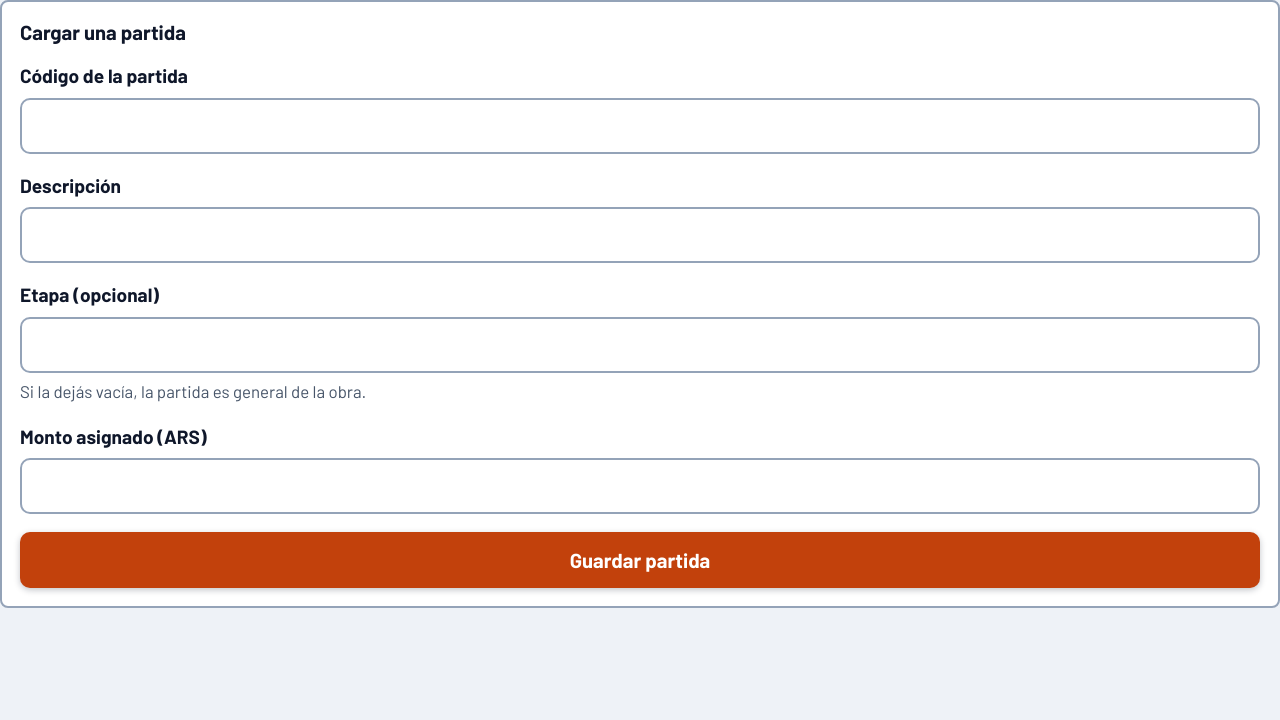
Test: FormularioNuevaPartida › muestra el detalle del backend cuando la partida ya existe (409)
In the field labelled "Código de la partida": (640, 126) left=20, top=98, right=1260, bottom=154, type "EST-001"
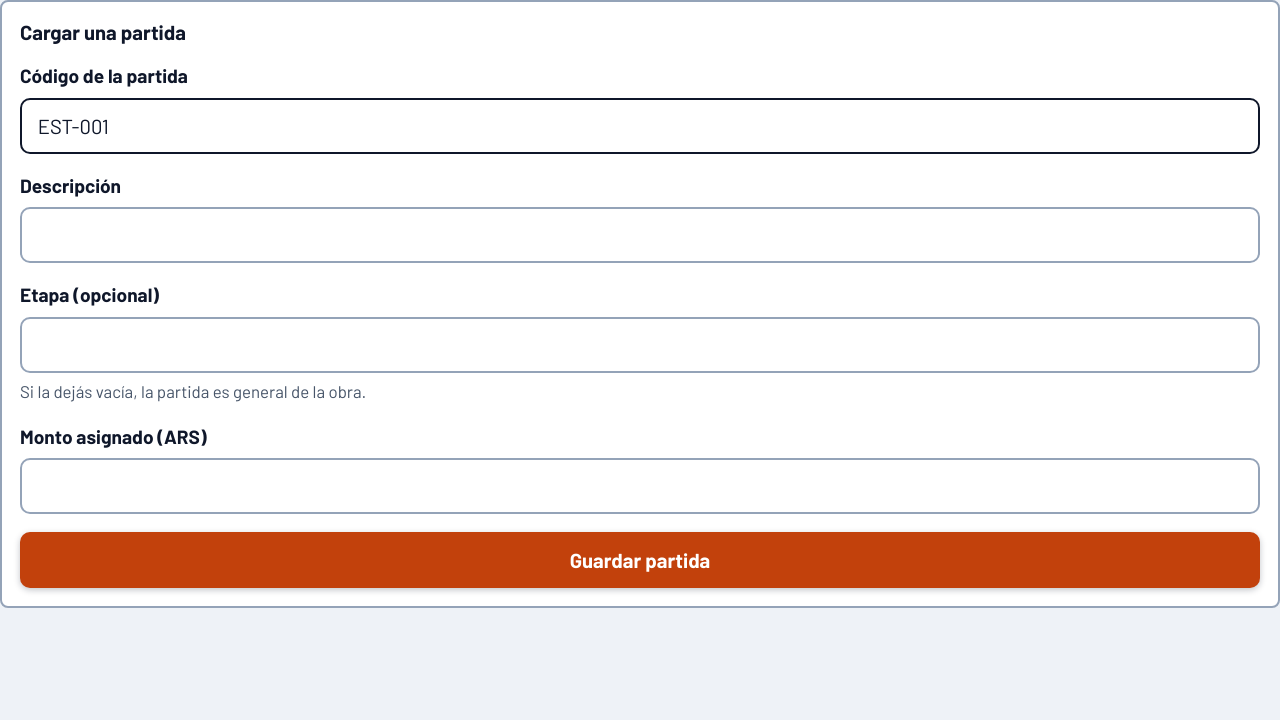
In the field labelled "Descripción": (640, 235) left=20, top=207, right=1260, bottom=263, type "Repetida"
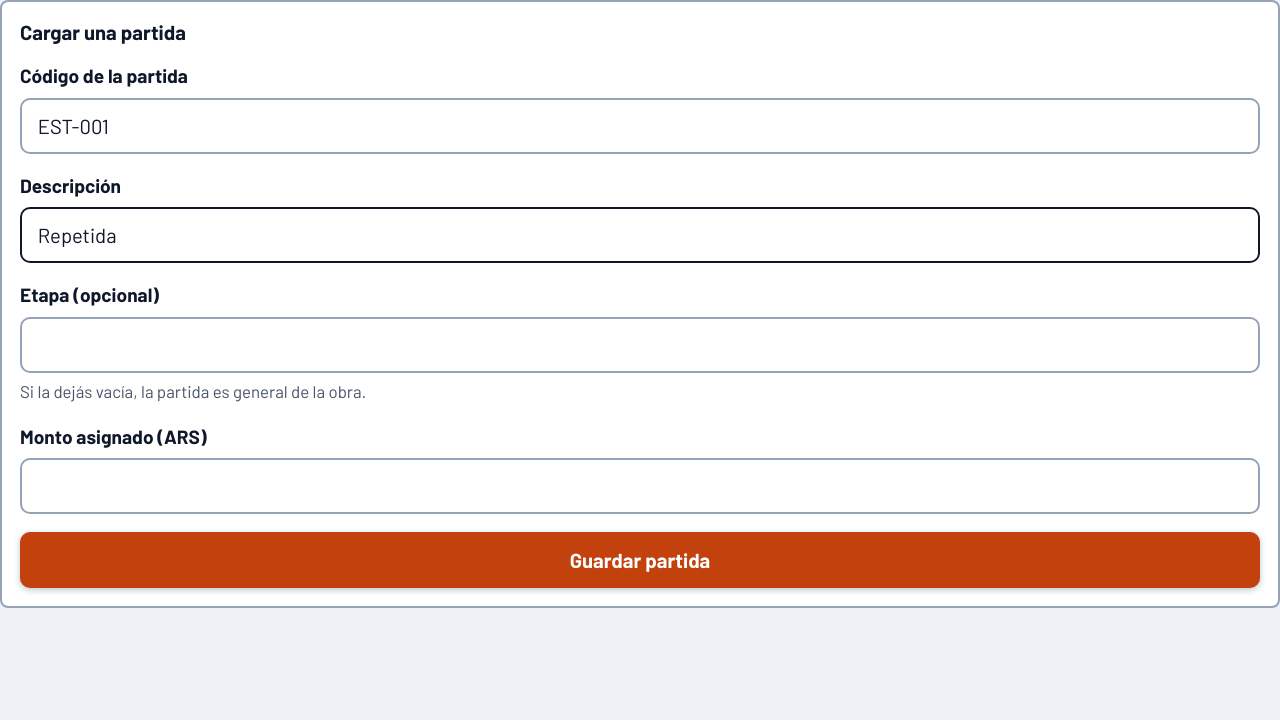
In the field labelled "Monto asignado (ARS)": (640, 486) left=20, top=458, right=1260, bottom=514, type "100"
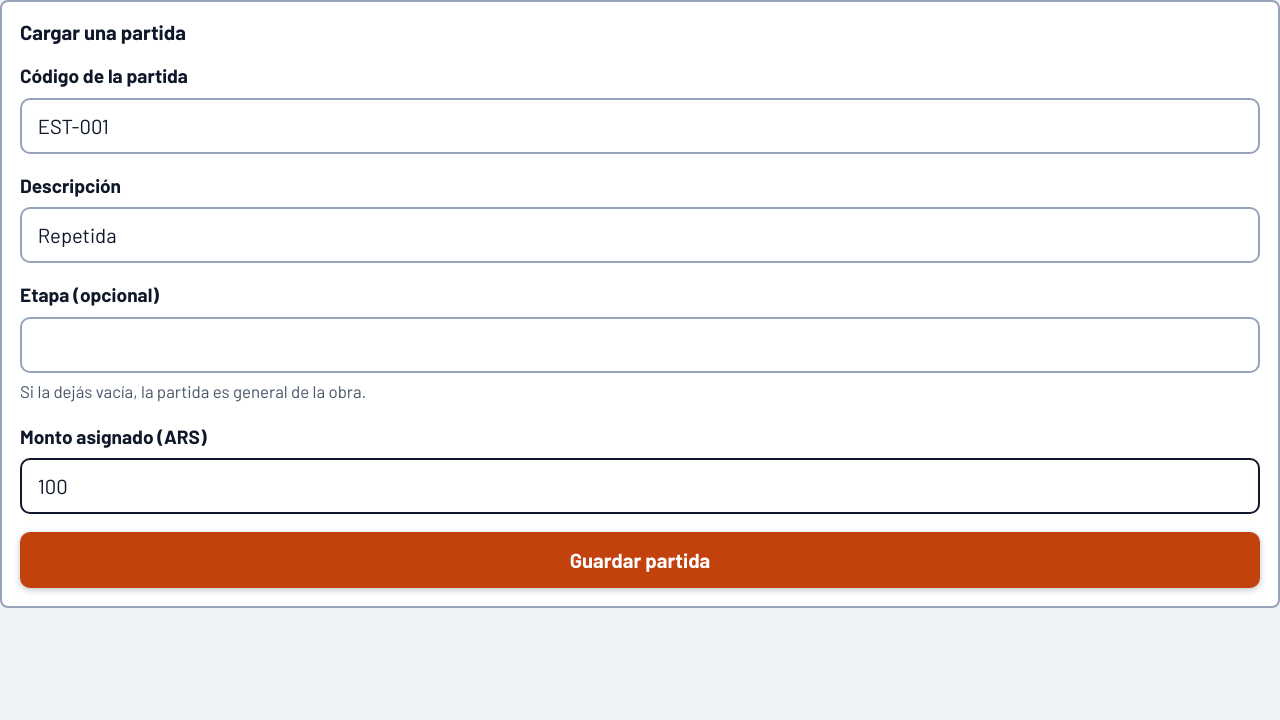
Click the button "Guardar partida": click(640, 560) left=20, top=532, right=1260, bottom=588
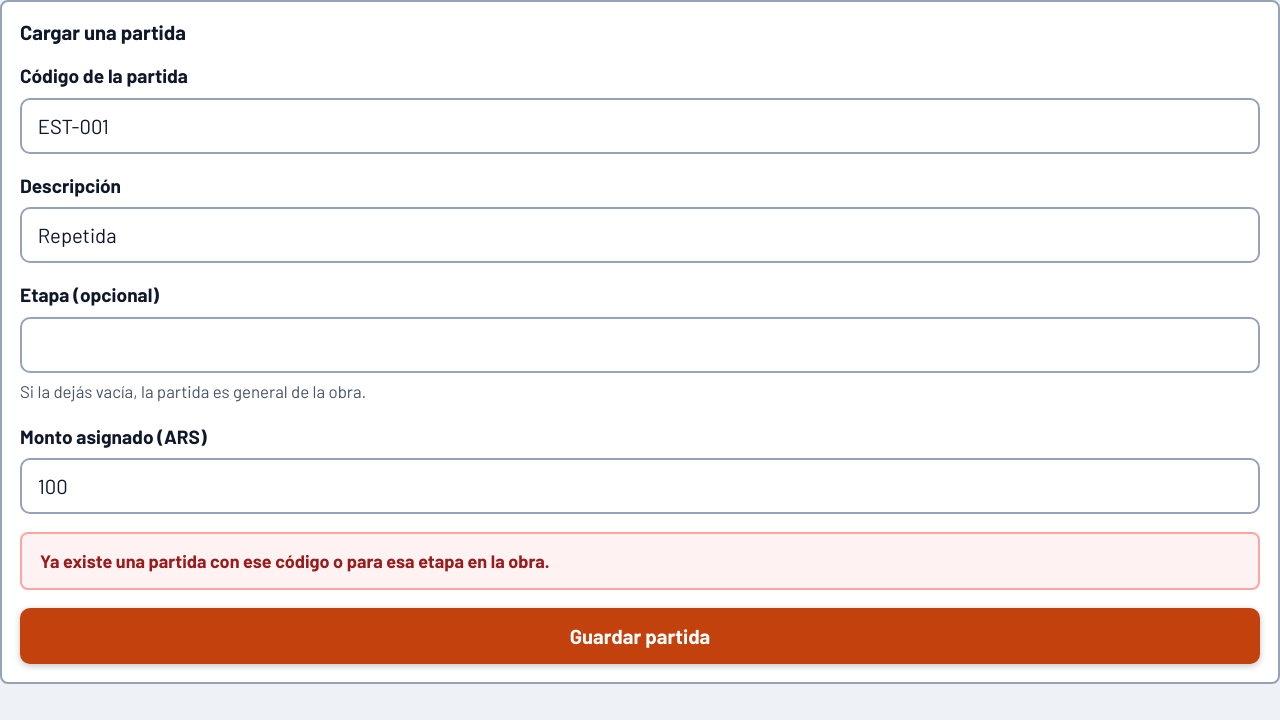
Now the message reads "Ya existe una partida con ese código o para esa etapa en la obra.", box left=40, top=550, right=550, bottom=572
